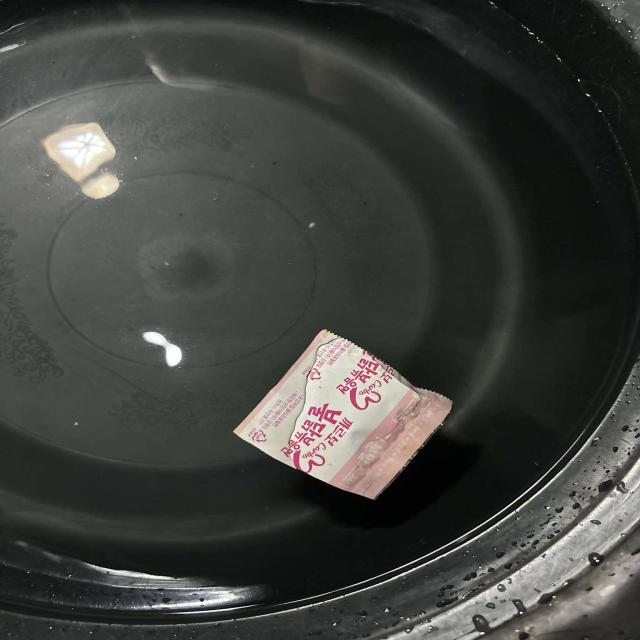Plastic Wrapper: (200, 325, 476, 542)
